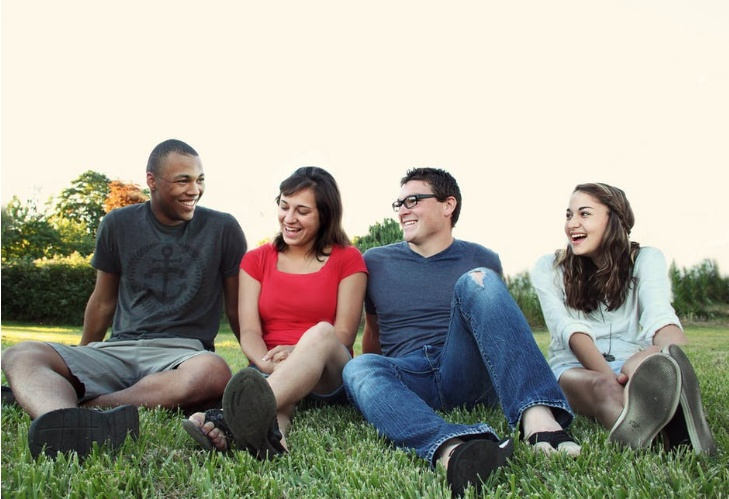face: (159, 153, 205, 221), (563, 191, 601, 256), (397, 181, 434, 242), (279, 190, 318, 245)
